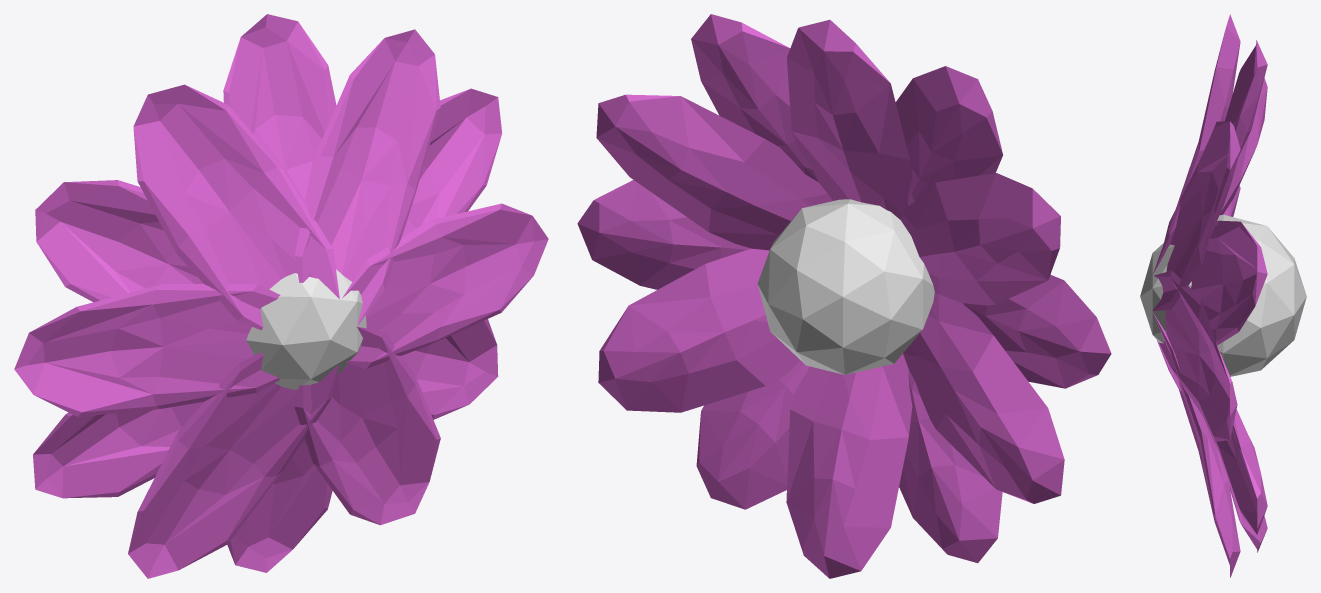
File: Flower.fbx
The picture shows the model from 3 angles, left to right: view 1: azimuth 30°, elevation 25°; view 2: azimuth 150°, elevation 25°; view 3: azimuth 270°, elevation 25°; orthographic projection. The views are drawn at different scales.
Parts seen in each view (by area): view 1: Flower; view 2: Flower; view 3: Flower.
Part boxes in pixels (x1=…): Flower: x1=14, y1=14, x2=548, y2=578; Flower: x1=577, y1=14, x2=1111, y2=578; Flower: x1=1140, y1=14, x2=1306, y2=577.
Size of the model in its own units: 302 by 302 by 88.82.
